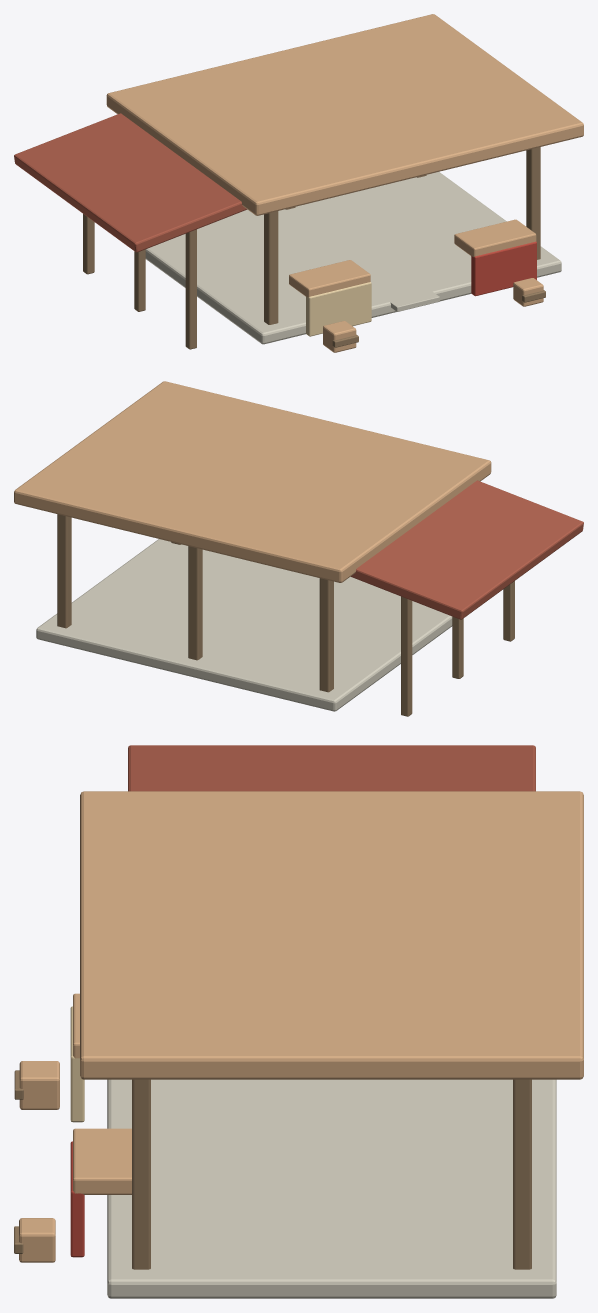
Rendered from arid-market-1.glb.
3 renders of one model, top to bottom at view 1: azimuth 30°, elevation 25°; view 2: azimuth 150°, elevation 25°; view 3: azimuth 270°, elevation 25°, orthographic. The views are drawn at different scales.
Parts seen in each view (by area): view 1: Adobe cream, Cut limestone, Clay tiles, Palm beams, Adobe wood, Market red cloth, Market cream cloth; view 2: Adobe cream, Cut limestone, Clay tiles, Palm beams; view 3: Adobe cream, Cut limestone, Clay tiles, Adobe wood, Palm beams, Market red cloth, Market cream cloth.
Part boxes in pixels (box(x1,y1,x2,y2)): Adobe cream: box(106, 14, 583, 215); Cut limestone: box(145, 172, 561, 344); Clay tiles: box(14, 113, 247, 252); Palm beams: box(83, 147, 545, 349); Adobe wood: box(289, 219, 543, 352); Market red cloth: box(471, 241, 536, 296); Market cream cloth: box(306, 282, 371, 336); Adobe cream: box(14, 381, 491, 582); Cut limestone: box(36, 539, 452, 711); Clay tiles: box(351, 480, 583, 619); Palm beams: box(57, 514, 514, 716); Adobe cream: box(80, 791, 583, 1079); Cut limestone: box(107, 1079, 556, 1298); Clay tiles: box(128, 745, 535, 791); Adobe wood: box(19, 993, 131, 1262); Palm beams: box(14, 1070, 531, 1269); Market red cloth: box(70, 1141, 84, 1257); Market cream cloth: box(70, 1006, 84, 1122).
Size of the model in its own units: 7.1 by 2.37 by 4.82.
